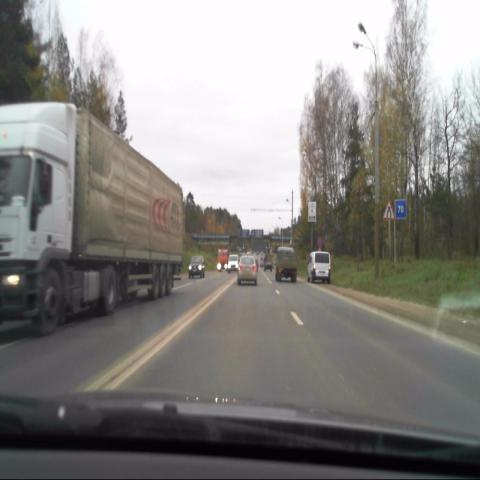1_20: (381, 201, 394, 220)
6_2: (395, 198, 407, 219)
